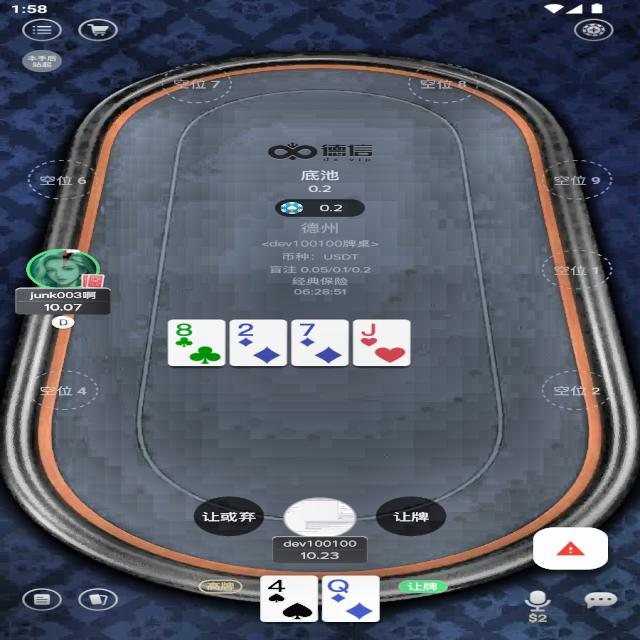2f: (232, 322, 258, 338)
4s: (264, 578, 291, 594)
7f: (295, 321, 320, 338)
8m: (173, 322, 199, 338)
Jh: (358, 320, 382, 338)
Qf: (325, 578, 356, 594)
